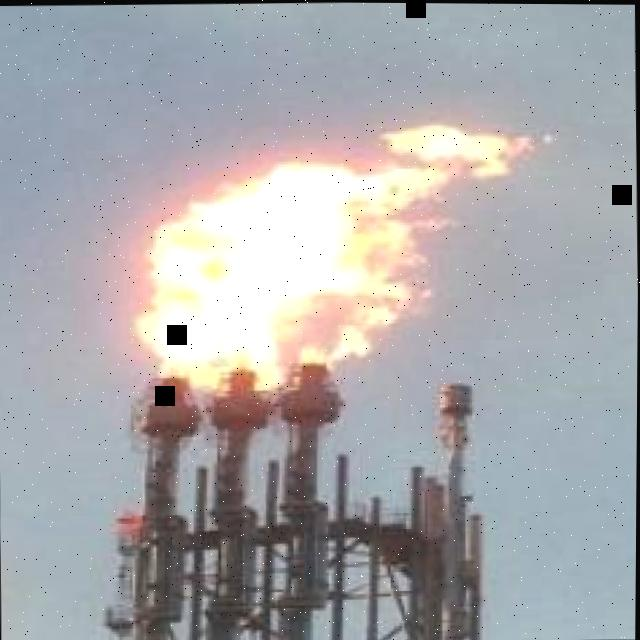fire: (129, 121, 532, 392)
